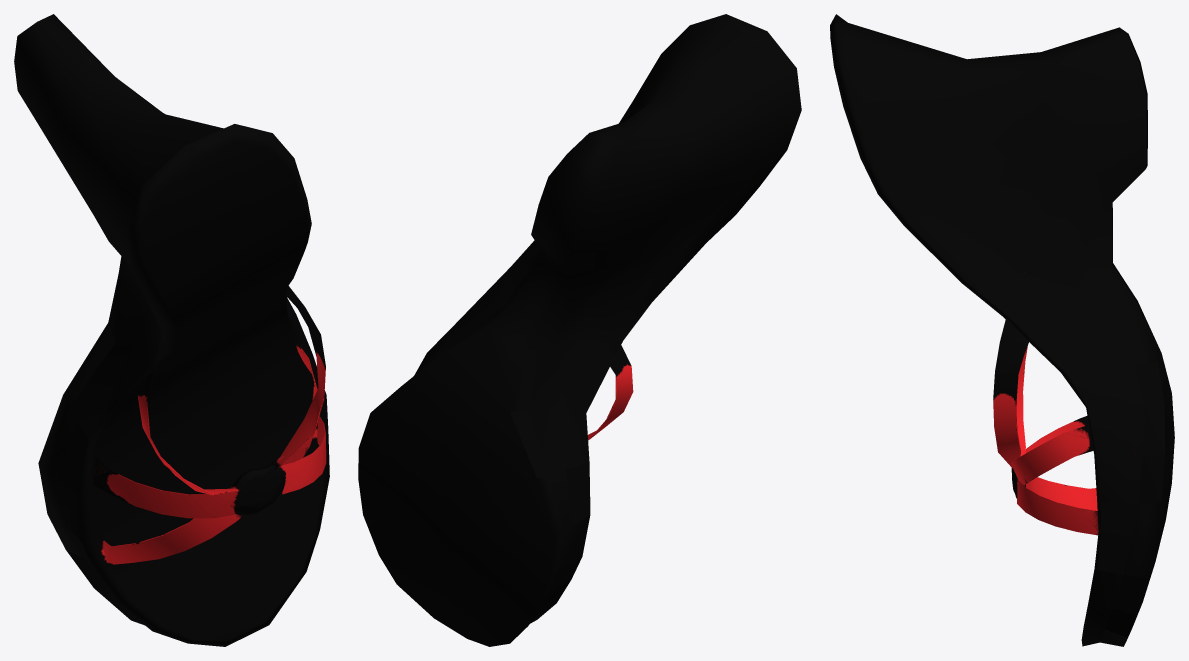
Rendered from shoes5.fbx.
3 views of the same model, side by side, from view 1: azimuth 30°, elevation 25°; view 2: azimuth 150°, elevation 25°; view 3: azimuth 270°, elevation 25° (orthographic). The views are drawn at different scales.
Parts seen in each view (by area): view 1: node_id3; view 2: node_id3; view 3: node_id3.
Part boxes in pixels (bbox=[...]): node_id3: bbox=[14, 14, 329, 646]; node_id3: bbox=[358, 14, 801, 646]; node_id3: bbox=[830, 14, 1174, 646].
Size of the model in its own units: 0.2685 by 0.4822 by 0.2705.
1 material, 1 textured.
